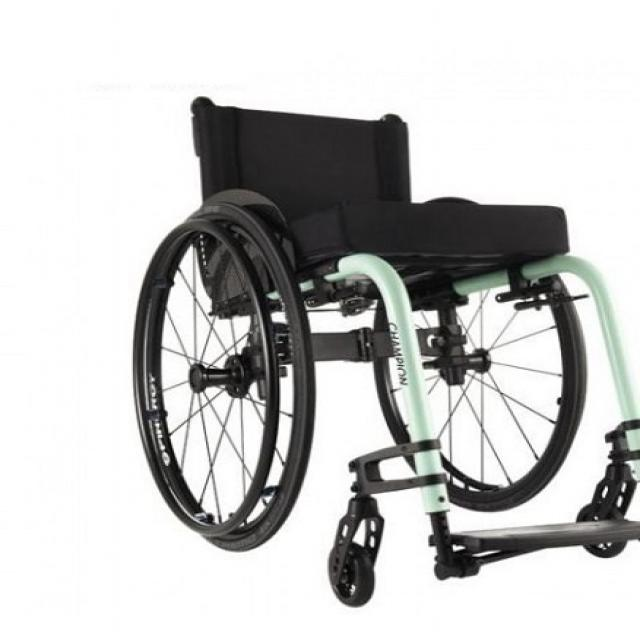wheelchair: (118, 86, 640, 612)
